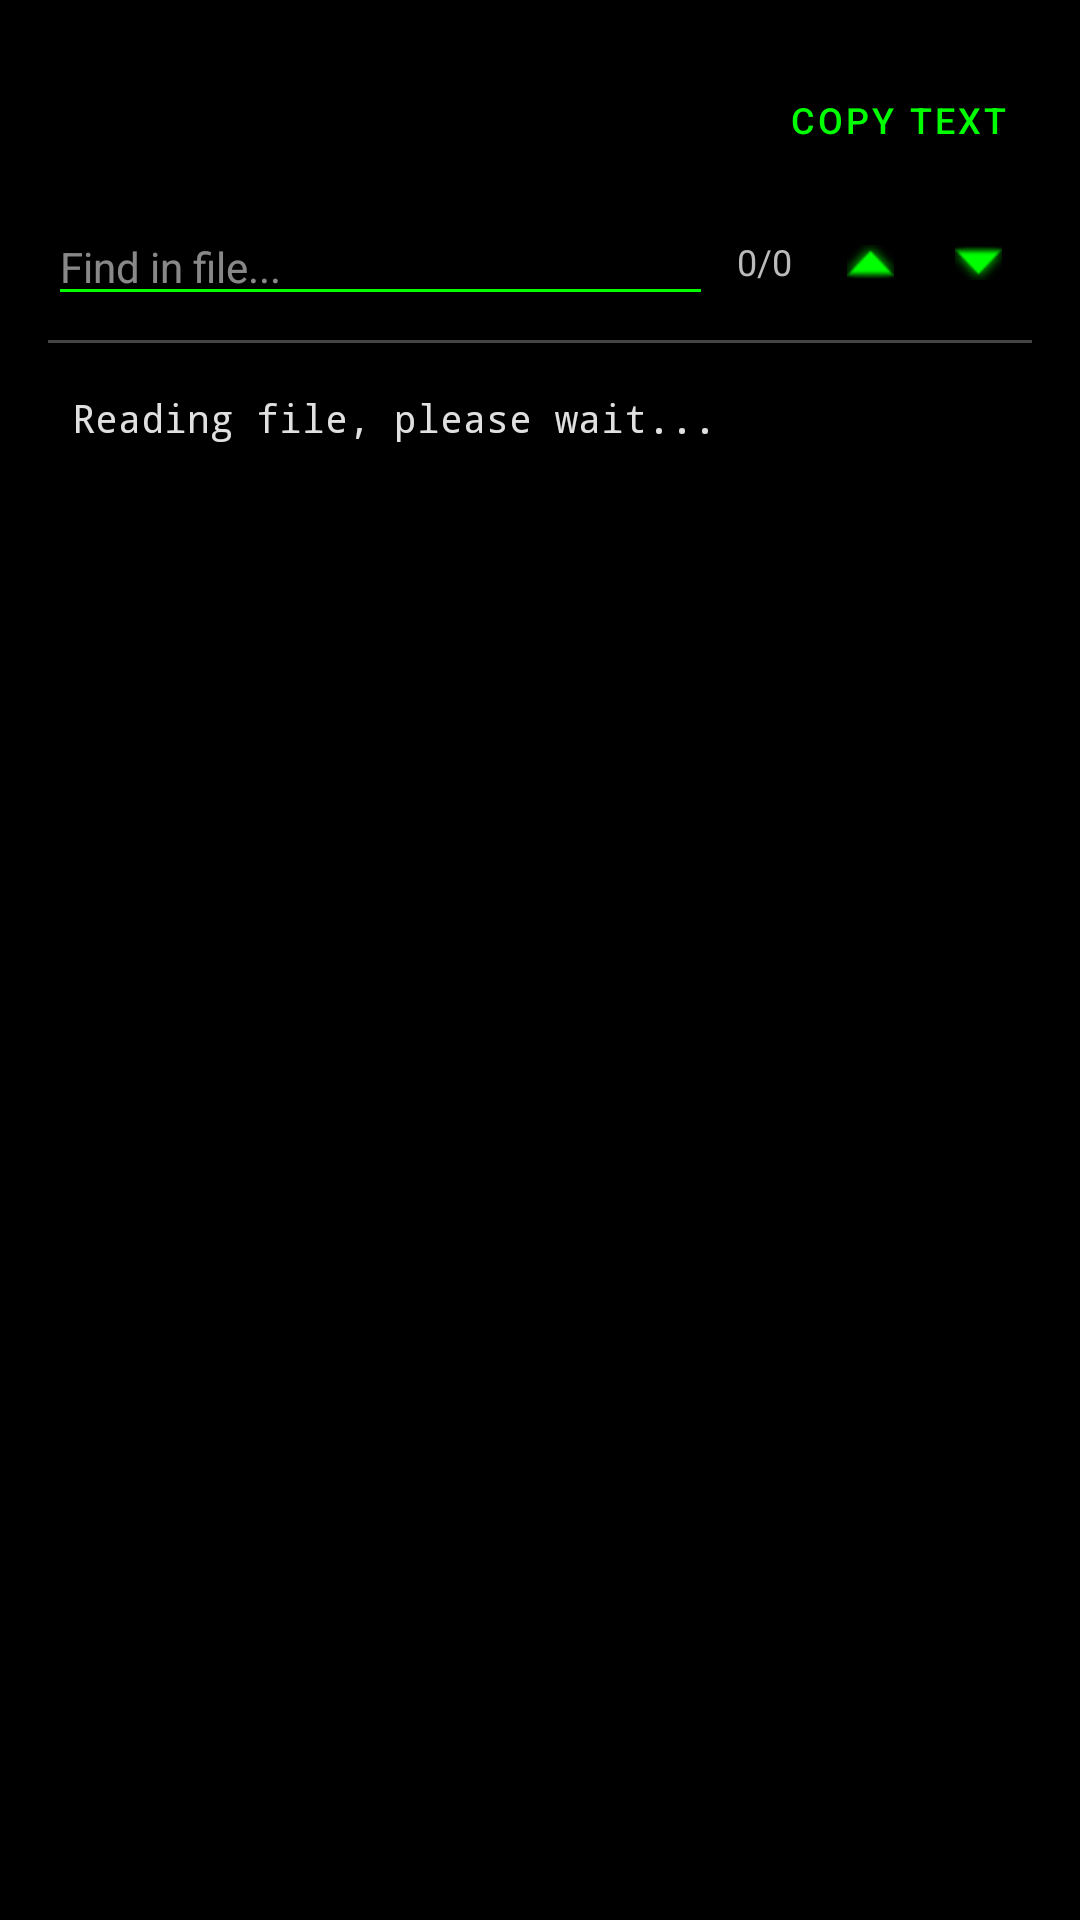

Locate icon controls on the screen. Image size 1080×1920, boxes as (x1, y1, x2, y2).
Next Match: (955, 247, 1002, 279)
Previous Match: (847, 246, 894, 278)
